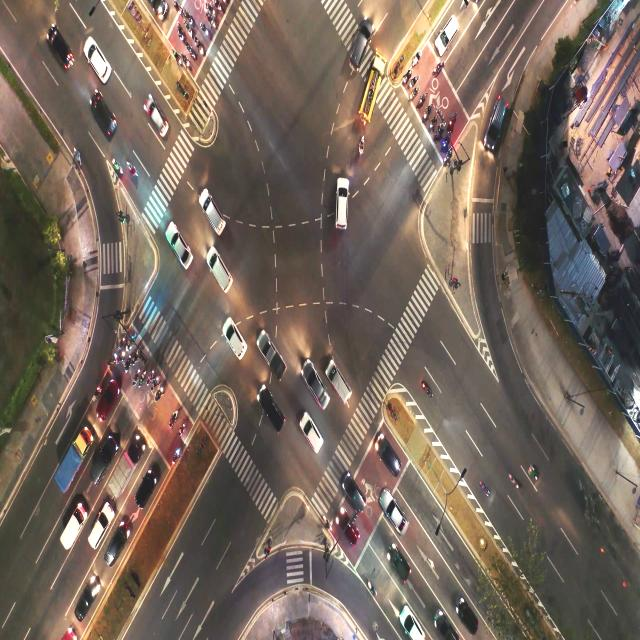bus: (364, 74, 378, 109)
car: (260, 400, 281, 427), (312, 373, 326, 405), (228, 329, 244, 356), (353, 30, 365, 61), (492, 104, 501, 142), (440, 21, 452, 49), (174, 241, 190, 262), (96, 49, 107, 79), (344, 520, 356, 546), (92, 518, 104, 543), (338, 379, 350, 401), (308, 429, 321, 449), (337, 198, 347, 224), (217, 272, 230, 292), (397, 559, 407, 584), (384, 451, 396, 470), (96, 456, 105, 480), (80, 594, 91, 612), (210, 210, 220, 227), (153, 116, 165, 130), (392, 508, 401, 526), (352, 492, 361, 510), (101, 391, 112, 405), (102, 116, 112, 130), (409, 620, 417, 637), (142, 483, 150, 498), (464, 608, 470, 626), (110, 541, 118, 553), (61, 50, 67, 64)
motorcycle: (129, 163, 139, 180), (424, 381, 432, 396), (480, 480, 488, 494), (528, 463, 535, 478), (178, 30, 185, 45), (127, 353, 132, 370), (189, 47, 196, 59), (435, 64, 444, 73), (424, 106, 430, 119), (368, 581, 374, 594), (140, 370, 146, 383), (180, 422, 187, 433), (360, 136, 364, 154), (184, 56, 190, 68), (323, 514, 328, 528), (175, 2, 180, 16), (416, 54, 422, 65), (116, 163, 121, 176), (75, 149, 80, 162), (412, 88, 418, 98), (448, 150, 452, 163), (451, 114, 455, 127), (511, 475, 516, 485), (175, 452, 180, 462), (406, 72, 412, 80), (154, 377, 158, 389), (133, 353, 139, 361), (198, 43, 204, 51), (187, 14, 192, 23), (203, 26, 208, 35), (94, 388, 98, 399), (218, 5, 224, 12), (444, 139, 449, 147), (421, 95, 426, 103), (157, 390, 161, 400), (175, 54, 180, 62), (438, 125, 442, 134), (432, 116, 435, 128), (171, 415, 175, 424), (210, 19, 215, 26), (412, 77, 416, 85), (136, 371, 140, 379), (209, 5, 213, 13), (113, 353, 117, 360), (150, 371, 153, 380), (128, 338, 131, 347), (188, 30, 192, 36), (122, 352, 124, 360), (122, 338, 124, 343)
truck: (267, 350, 281, 380), (65, 450, 77, 470), (118, 457, 125, 484), (70, 518, 79, 536)
